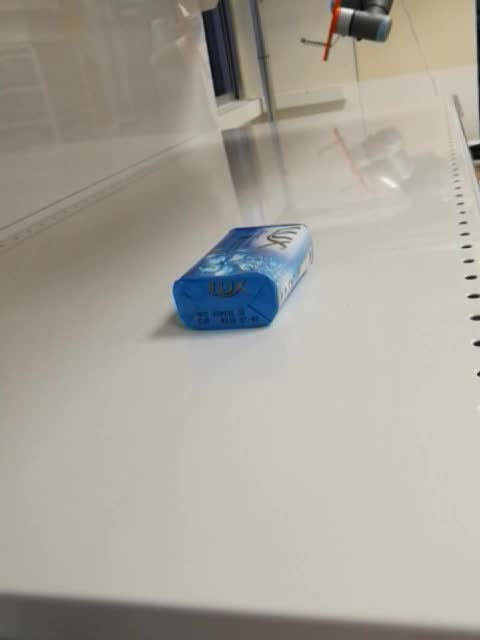soap: (169, 221, 313, 333)
